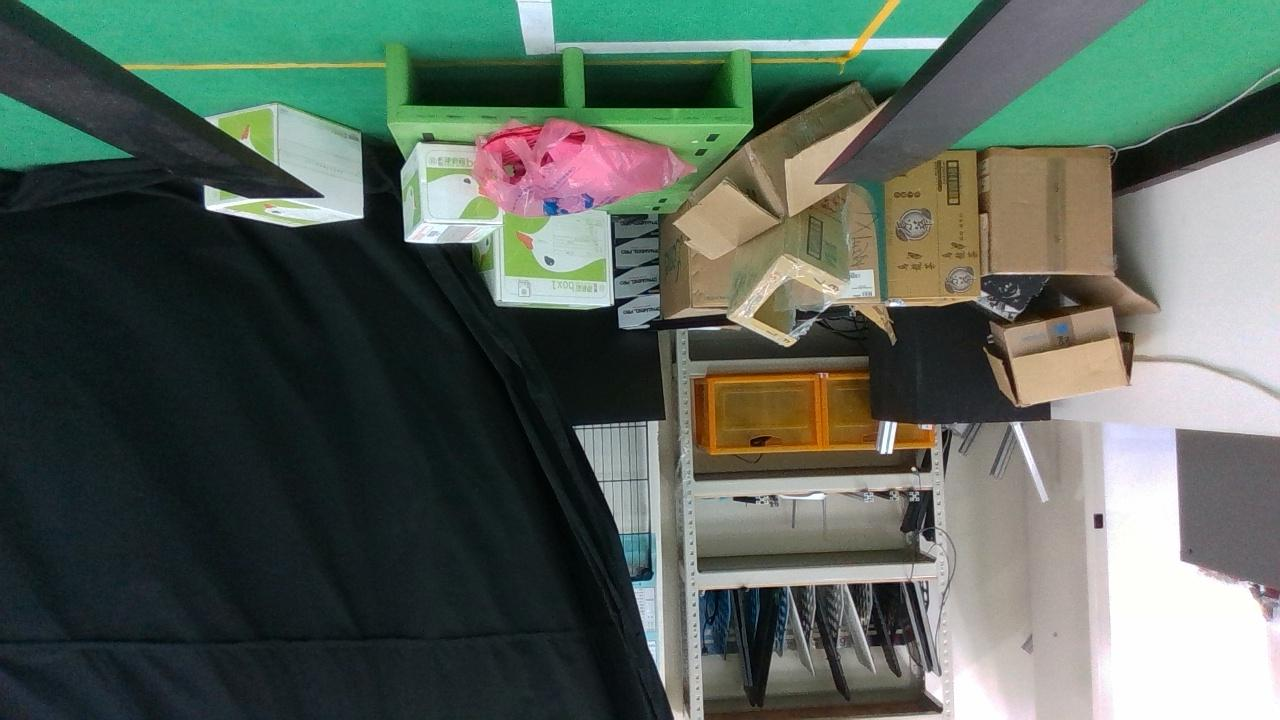Pallet: (383, 46, 752, 130)
